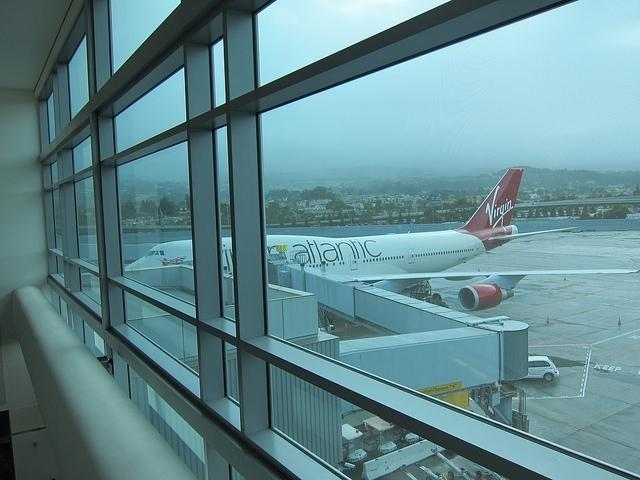car: (525, 356, 559, 382)
